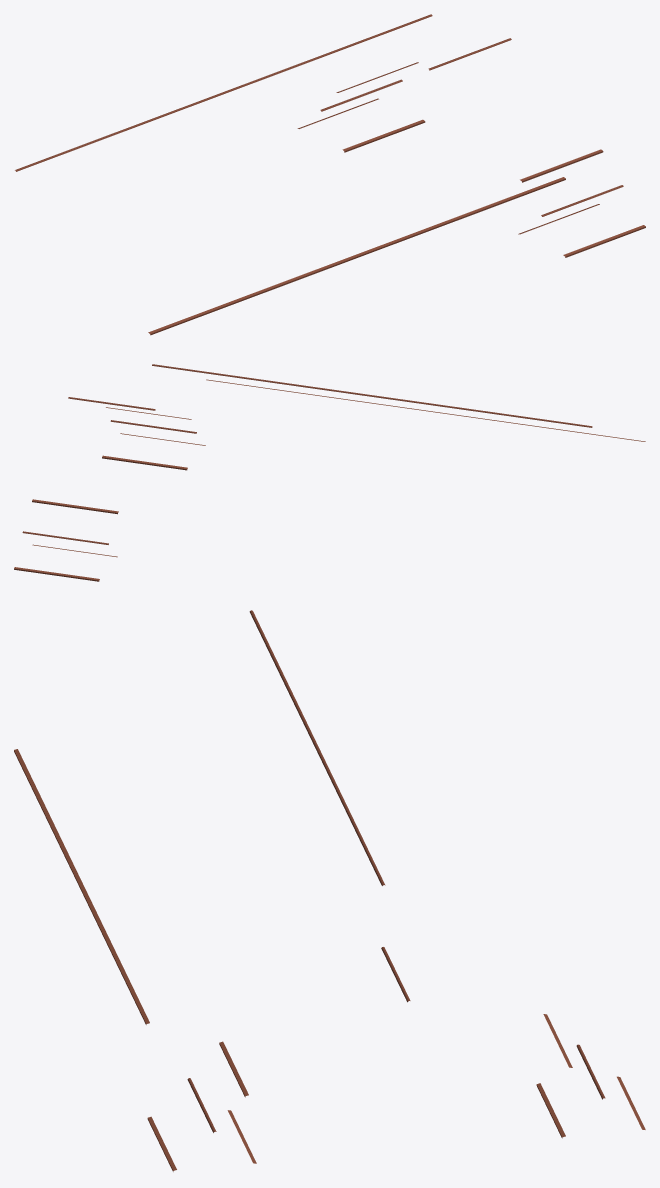
3 renders of one model, top to bottom at view 1: azimuth 30°, elevation 25°; view 2: azimuth 150°, elevation 25°; view 3: azimuth 270°, elevation 25°, orthographic. The views are drawn at different scales.
Parts seen in each view (by area): view 1: detail; view 2: detail; view 3: detail.
Boxes of the visible parts, x1=… form: detail: x1=15, y1=14, x2=645, y2=335; detail: x1=14, y1=364, x2=645, y2=581; detail: x1=14, y1=610, x2=645, y2=1171.
Size of the model in its own units: 67.82 by 19.57 by 52.01.
